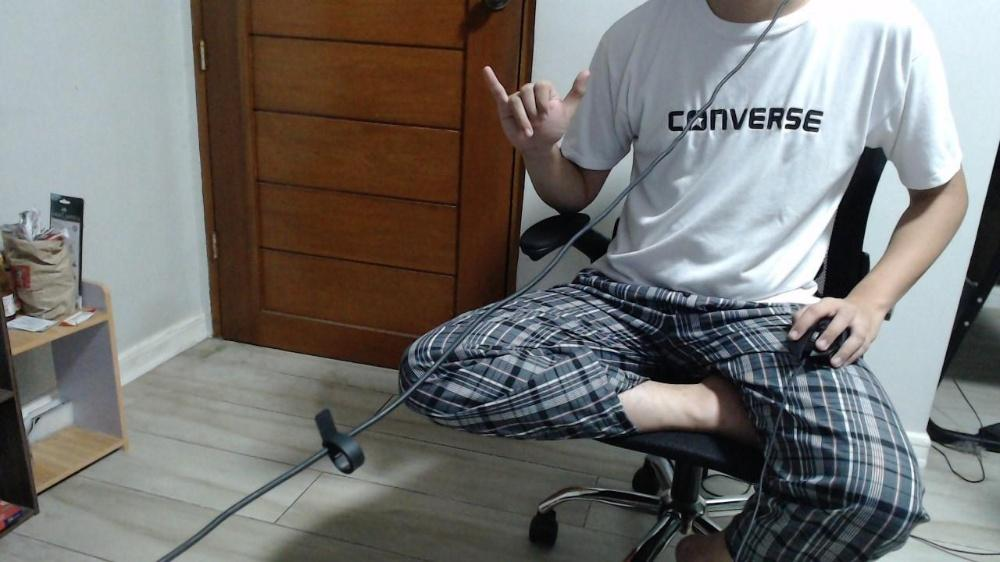y: (481, 65, 589, 149)
